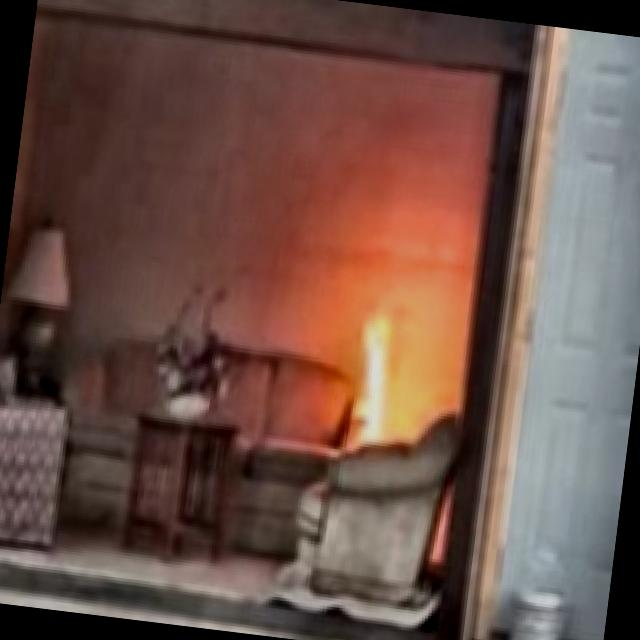fire: (337, 302, 430, 450)
